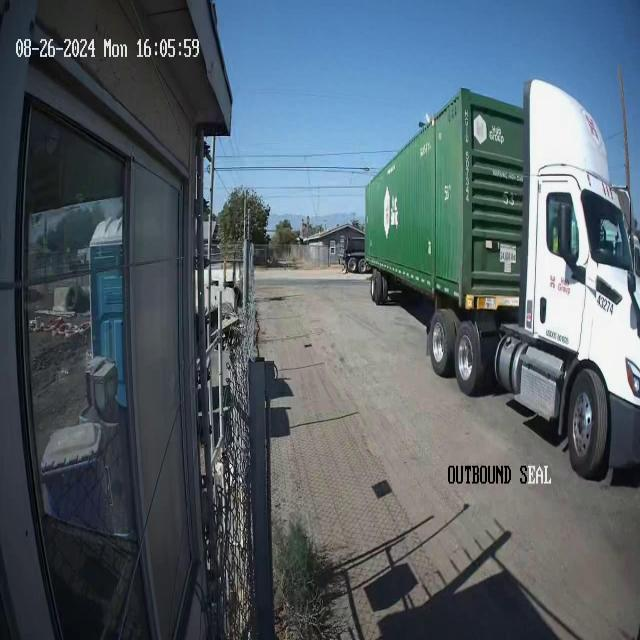CONTAINER: (364, 72, 520, 318)
